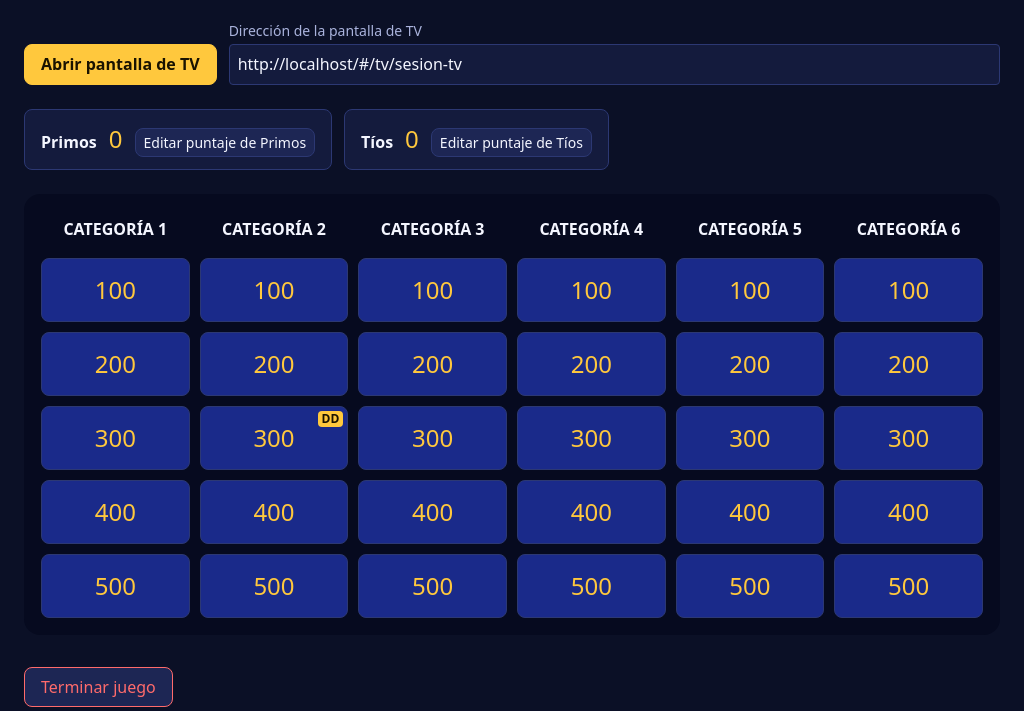
Scenario: operador y TV juntos › un Daily Double se anuncia sin la pregunta y la muestra tras la apuesta
This screenshot has width=1024, height=711.
(page scrolled)
Click the button with aria-label "Categoría 2, 300, Daily Double" at (274, 438), box [200,406,348,470]
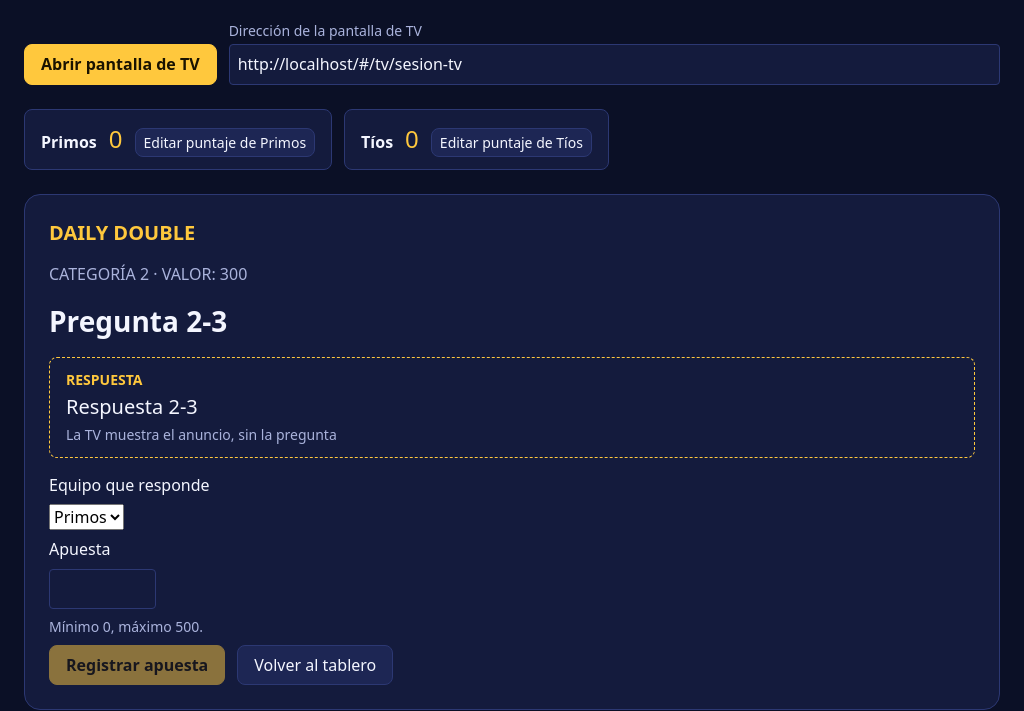
Expected: the text "Pregunta 2-3" is not shown
Type "400" into the number field labelled "Apuesta" at (102, 589), box [49,569,156,609]
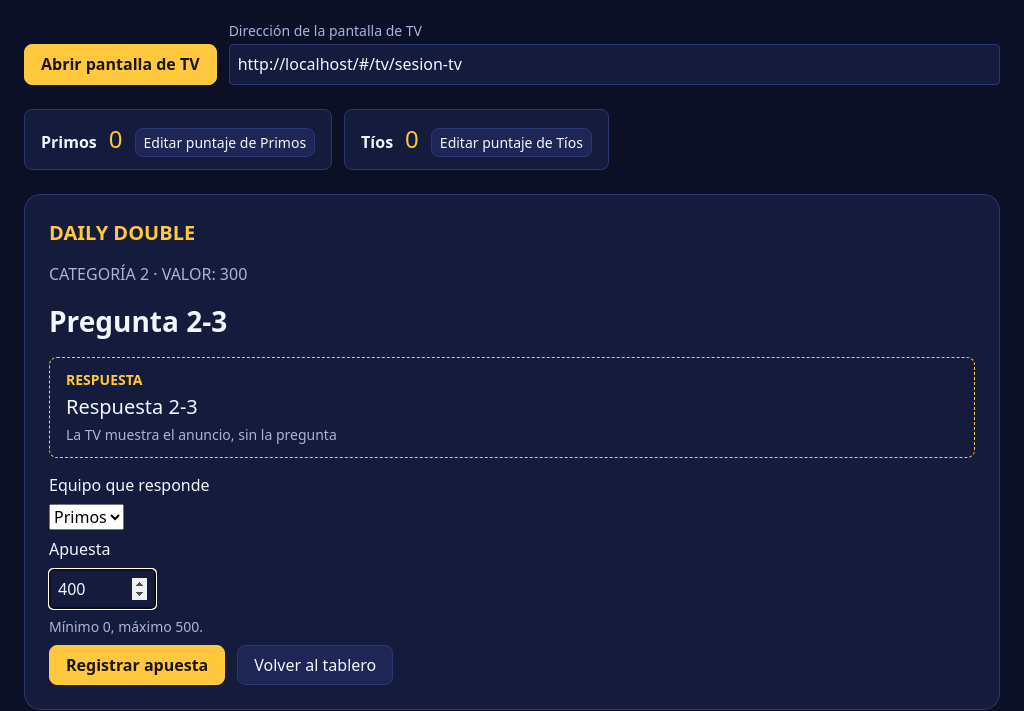
Click the button "Registrar apuesta" at (137, 665), box [49,645,225,685]
(page scrolled)
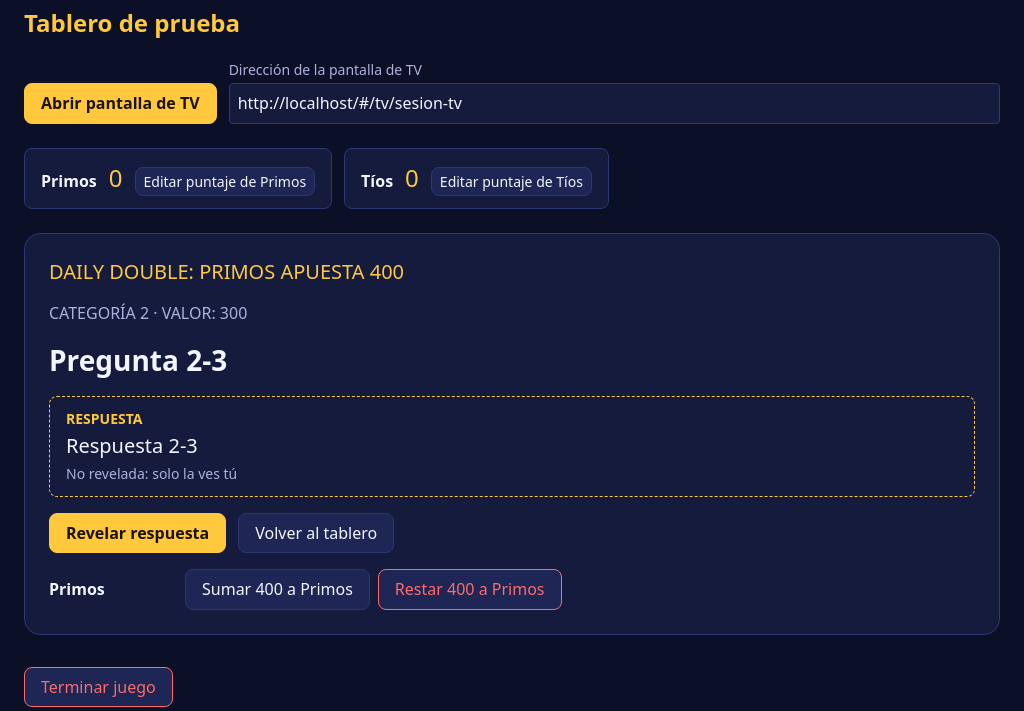
Click the button "Sumar 400 a Primos" at (277, 590), box [185,569,370,610]
(page scrolled)
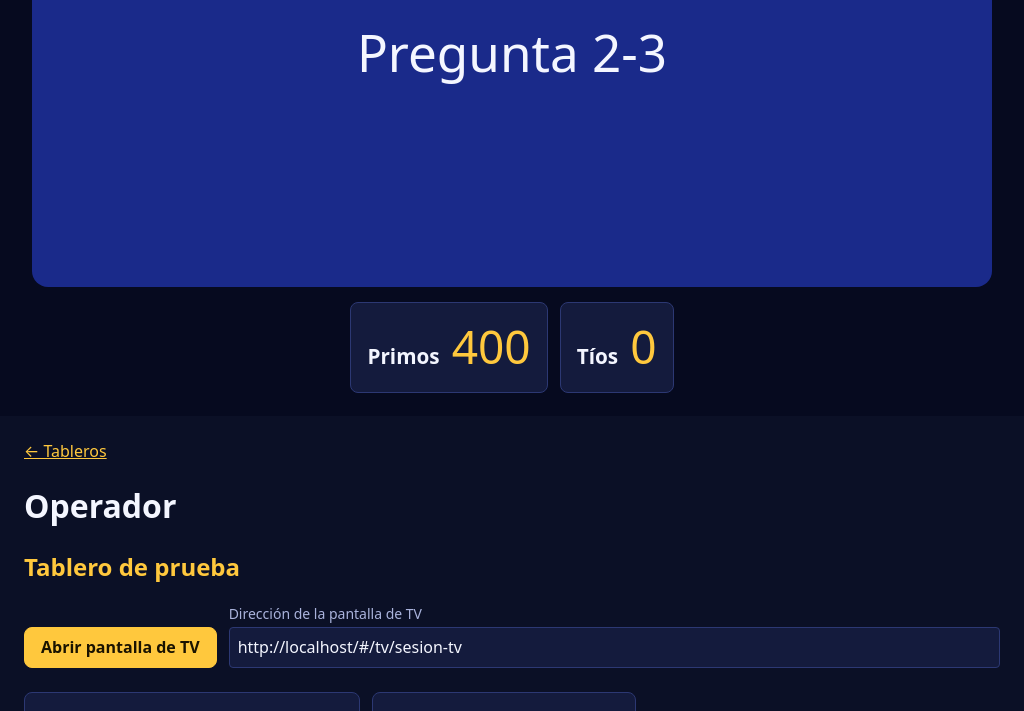
Now the list item with aria-label "Primos: 400 puntos" is shown, box [350,302,548,393]
